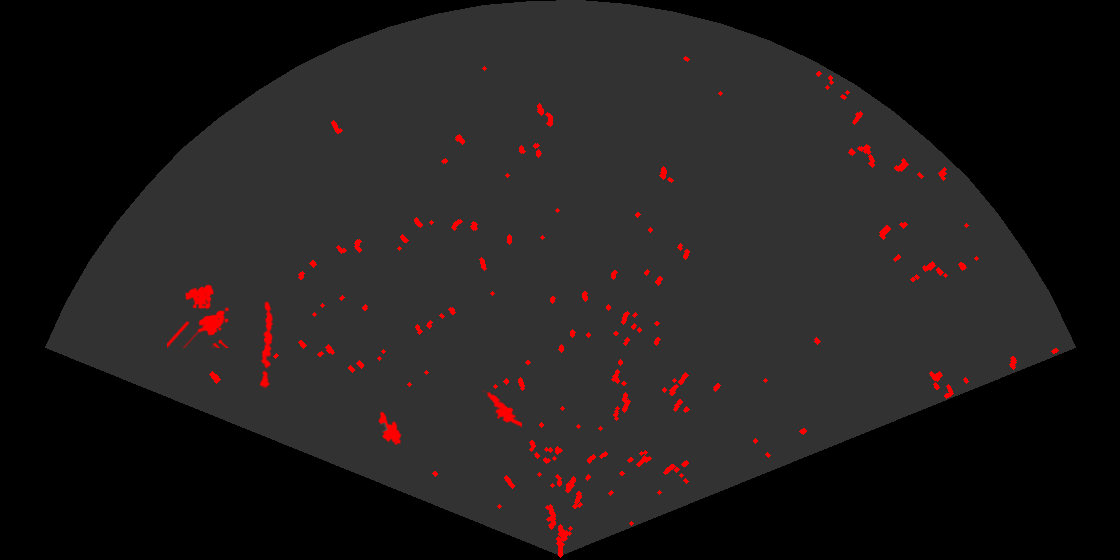AUV: (377, 410, 403, 447)
cage: (167, 283, 231, 348)
chain: (258, 300, 275, 390)
frogman: (480, 390, 522, 429)
